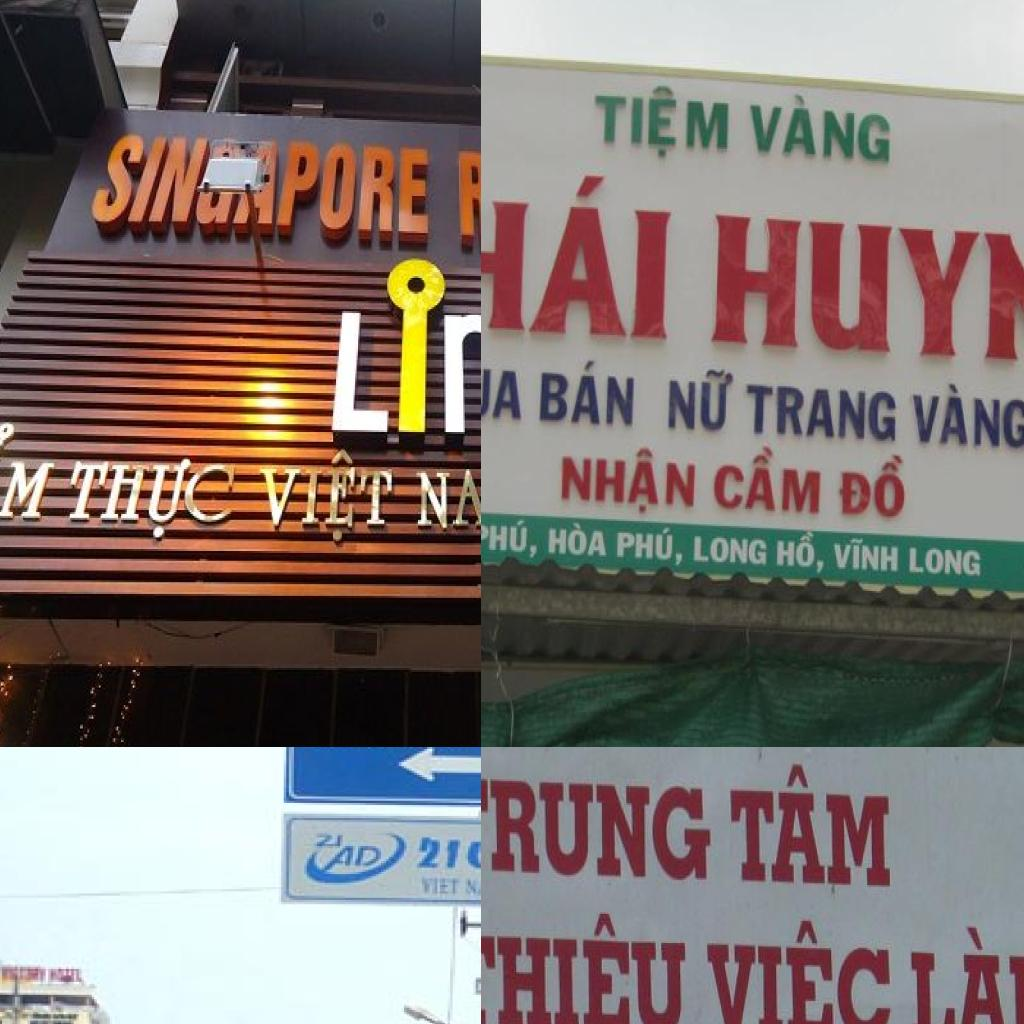text: (710, 210, 1024, 374), (481, 154, 676, 345), (320, 254, 481, 453), (481, 774, 713, 883), (481, 907, 687, 1024), (727, 759, 894, 892), (701, 912, 892, 1024), (272, 134, 432, 248), (60, 454, 246, 545), (250, 440, 399, 549), (89, 126, 213, 241), (907, 920, 1024, 1024), (592, 79, 731, 164), (746, 88, 892, 164), (560, 442, 698, 520), (745, 381, 898, 444), (712, 441, 823, 516), (910, 381, 1024, 451), (0, 412, 65, 527), (539, 357, 638, 429), (406, 457, 481, 537), (667, 364, 735, 432), (838, 451, 906, 519), (616, 522, 685, 568), (411, 835, 481, 874), (481, 516, 539, 562), (832, 535, 900, 574), (908, 546, 982, 580), (547, 519, 608, 559), (481, 364, 523, 422), (693, 535, 768, 567), (776, 530, 826, 578), (317, 846, 384, 876), (420, 876, 466, 898), (312, 833, 348, 850), (462, 878, 481, 899)
